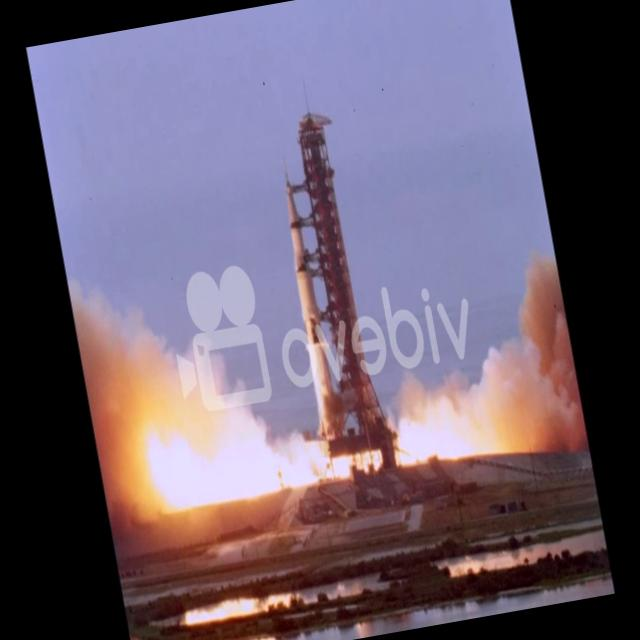rocket: (269, 162, 347, 477)
